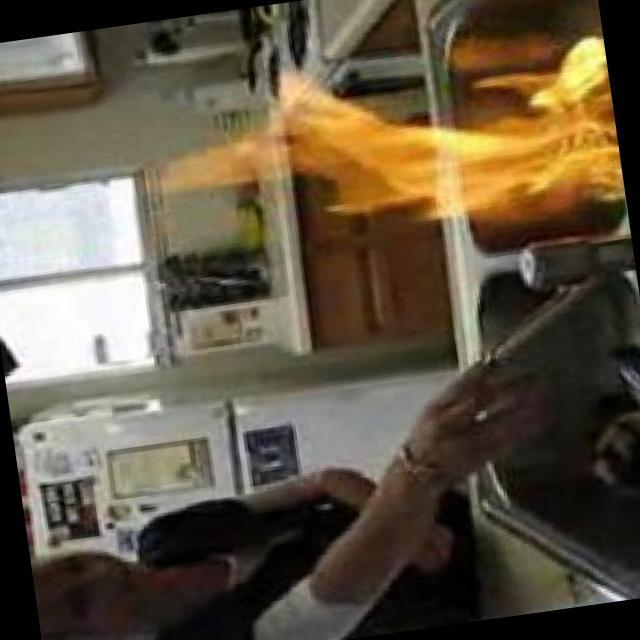Fire: (162, 38, 626, 257)
